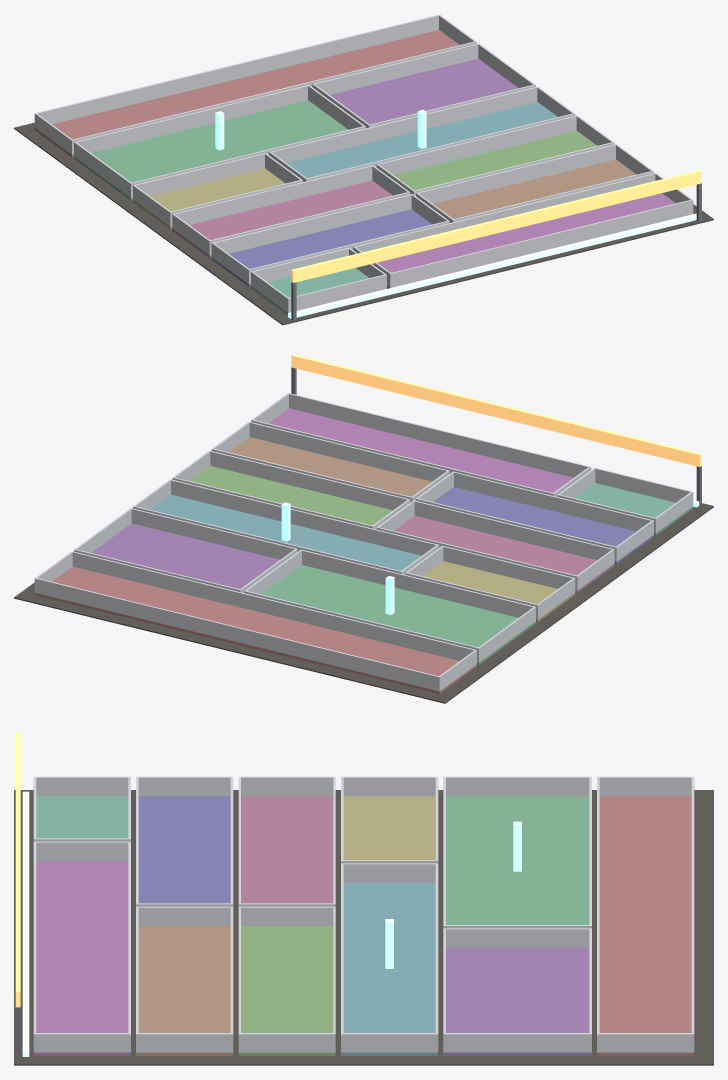
File: hall-stone-carvers.glb
3 renders of one model, top to bottom at view 1: azimuth 30°, elevation 25°; view 2: azimuth 150°, elevation 25°; view 3: azimuth 270°, elevation 25°, orthographic. The views are drawn at different scales.
Parts seen in each view (by area): view 1: Stone Carvers; view 2: Stone Carvers; view 3: Stone Carvers.
Boxes of the visible parts, x1,y1,x2,y2 form: Stone Carvers: (14, 14, 713, 325); Stone Carvers: (14, 354, 713, 703); Stone Carvers: (14, 732, 713, 1065).
Bounding box in the file's own units: 38 × 4.3 × 41.
